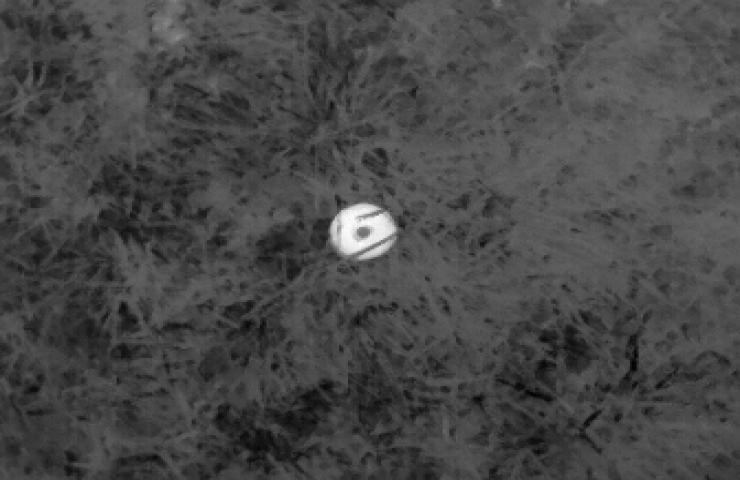landmines: (325, 201, 404, 266)
